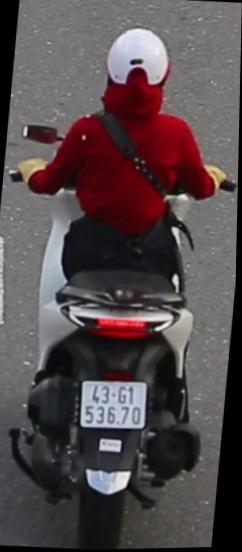LP: (78, 374, 154, 437)
helmet: (98, 18, 178, 127)
